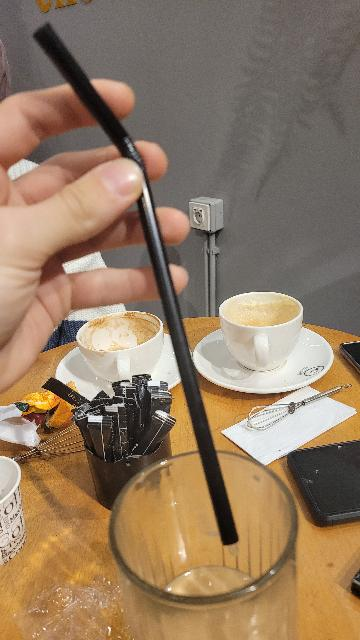Plastik: (32, 22, 240, 546)
